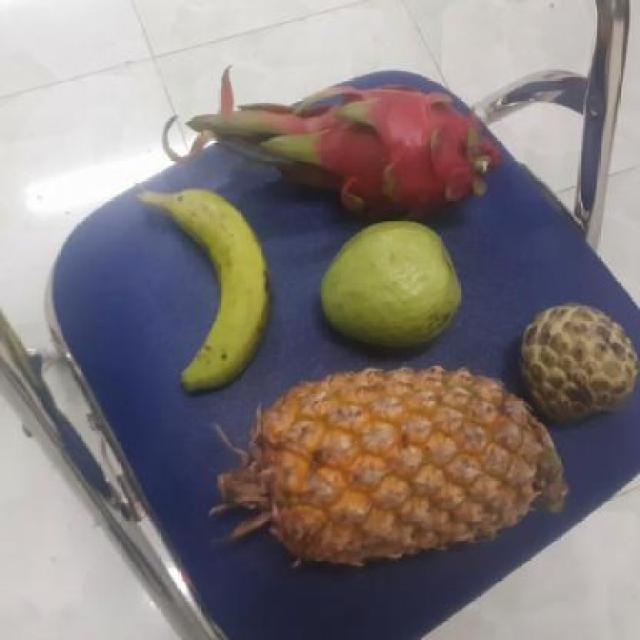banana: (145, 187, 270, 387)
dragon fruit: (292, 73, 486, 221)
guava: (315, 222, 462, 350)
pineapple: (212, 372, 548, 560)
sugar apple: (508, 306, 640, 422)
